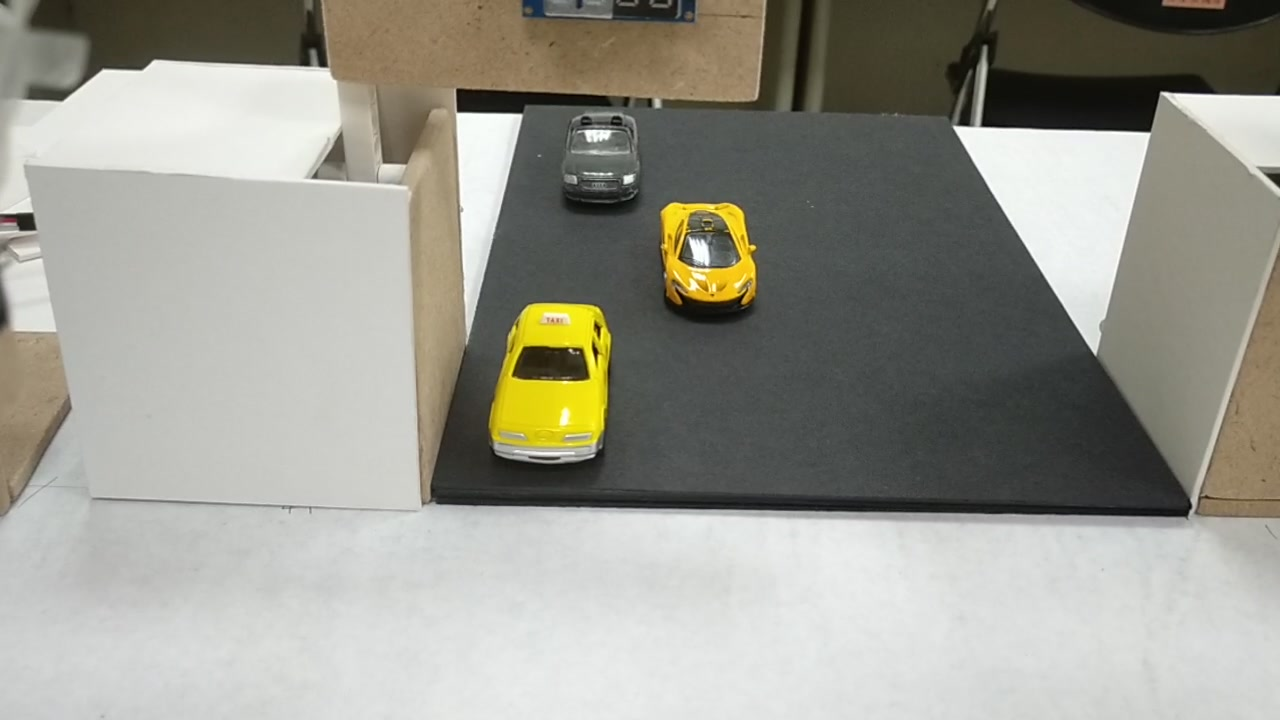car: (489, 307, 615, 465), (661, 197, 758, 310), (562, 115, 639, 196)
